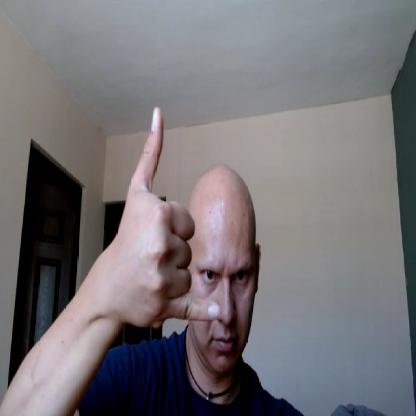Y: (120, 104, 220, 321)
